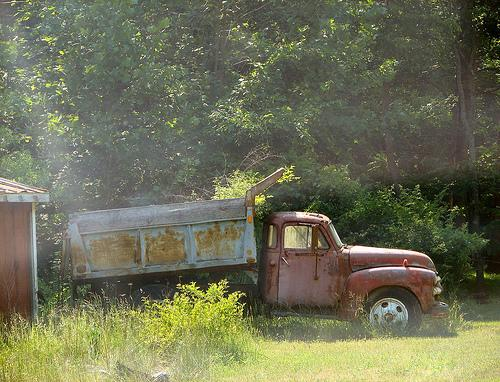truck: (55, 166, 450, 347)
